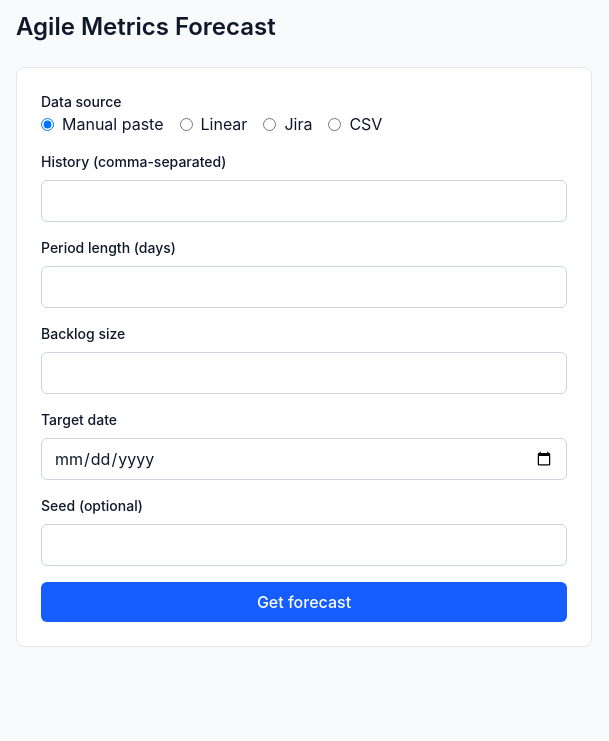
Scenario: App - CSV data-source toggle (spec 007) › shows a file input and a paste textarea when CSV mode is selected, hiding other fields
Click the radio button labelled "CSV" at (335, 124), box top-left (328, 118), bottom-right (341, 130)
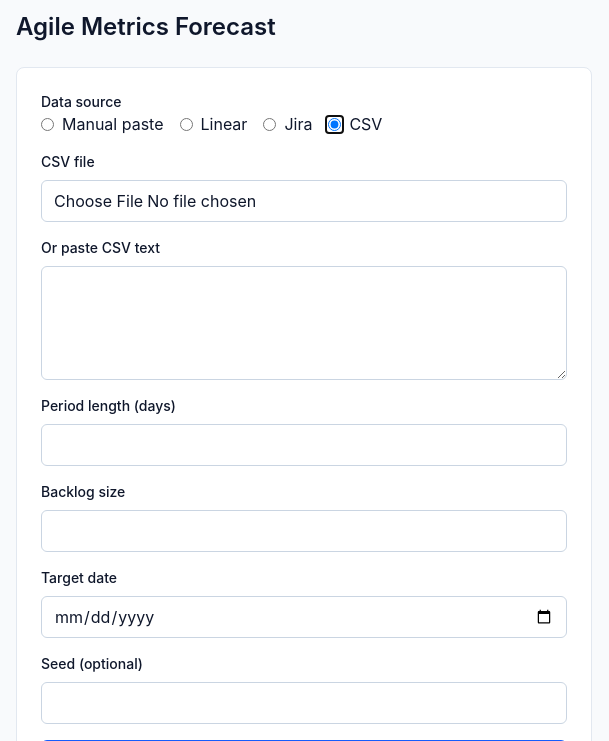
Expected: the file field labelled "CSV file" is shown, top-left (41, 180), bottom-right (567, 222)
Expected: the text box labelled "Or paste CSV text" is shown, top-left (41, 266), bottom-right (567, 380)
Expected: the label labelled "History" is gone
